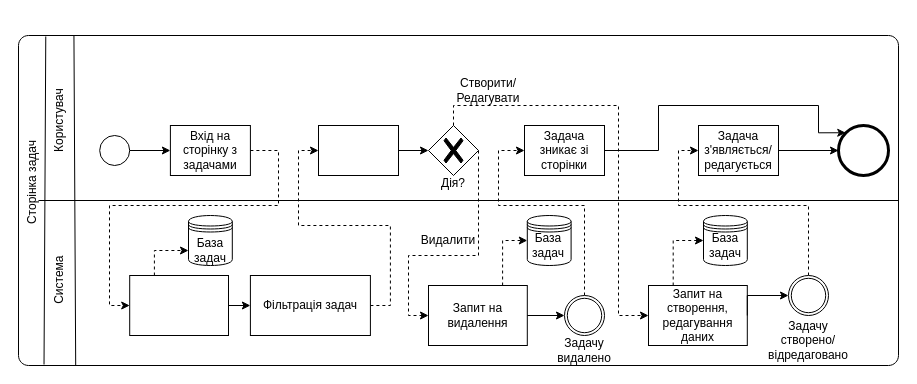
Image size: 917x384. Some labels were removed from this diagram. The centre of each missing label's shape, as x and y in pixels:
"Запит на отримання даних" belongs at pixel 178 305.
"Отримано задачі" belongs at pixel 358 150.
